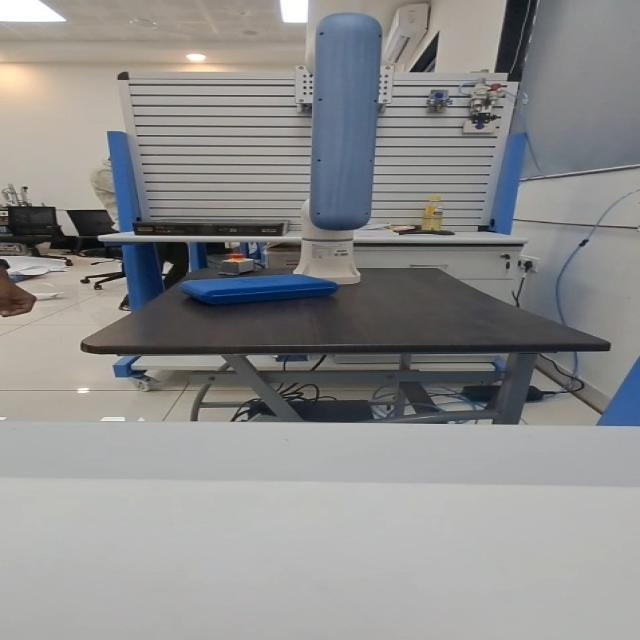top-surface: (202, 274, 311, 286)
